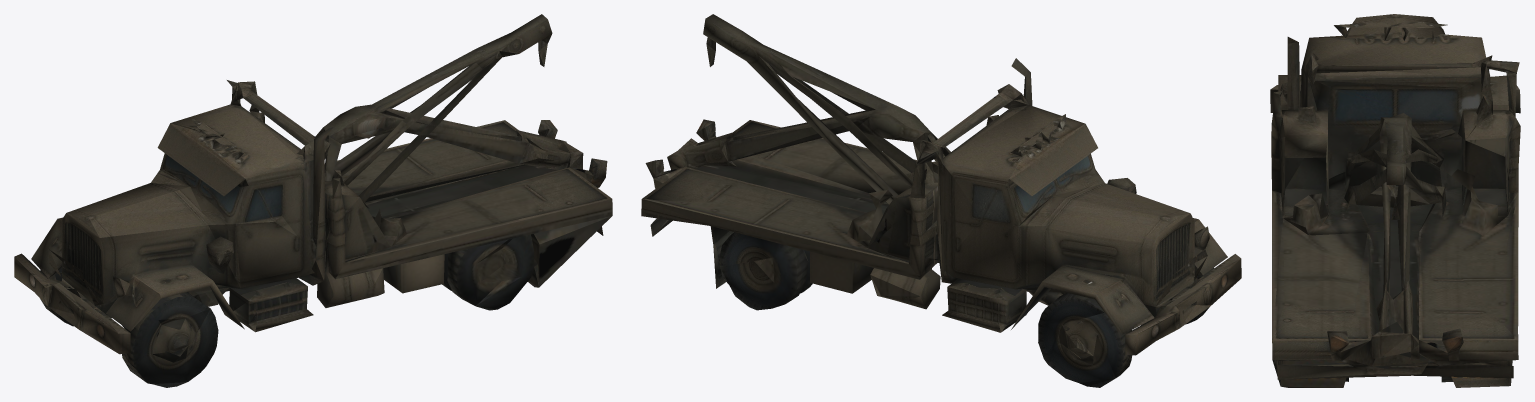
File: car_towtruck_light.glb
3 renders of one model, left to right at view 1: azimuth 30°, elevation 25°; view 2: azimuth 150°, elevation 25°; view 3: azimuth 270°, elevation 25°, orthographic. The views are drawn at different scales.
Visible parts, largest first — view 1: output_unwrapped; view 2: output_unwrapped; view 3: output_unwrapped.
Boxes of the visible parts, x1,y1,x2,y2 form: output_unwrapped: (14,14,612,387); output_unwrapped: (641,14,1241,387); output_unwrapped: (1270,14,1520,387).
Size of the model in its own units: 5.33 by 2.3 by 1.95.
1 material, 1 textured.
